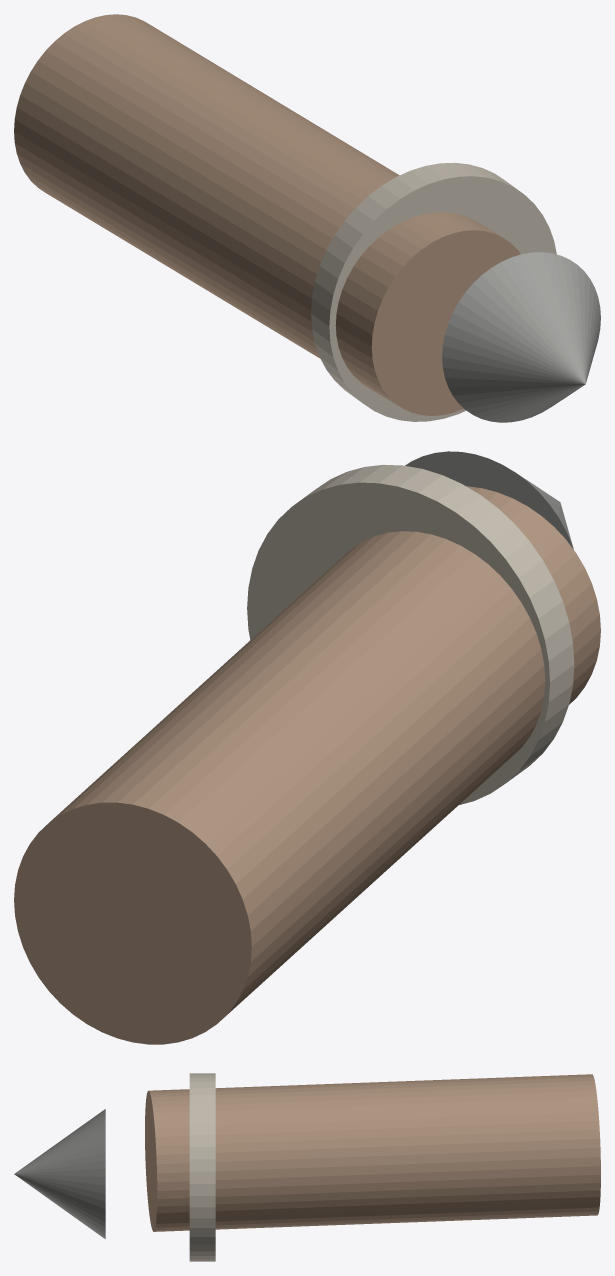
File: leaning-minaret.glb
The picture shows the model from 3 angles, top to bottom: view 1: azimuth 30°, elevation 25°; view 2: azimuth 150°, elevation 25°; view 3: azimuth 270°, elevation 25°; orthographic projection. The views are drawn at different scales.
Visible parts, largest first — view 1: world; view 2: world; view 3: world.
Boxes of the visible parts, x1=… form: world: x1=14, y1=14, x2=600, y2=422; world: x1=14, y1=451, x2=600, y2=1044; world: x1=14, y1=1073, x2=600, y2=1261.
Bounding box in the file's own units: 0.8331 × 0.72 × 2.24.
